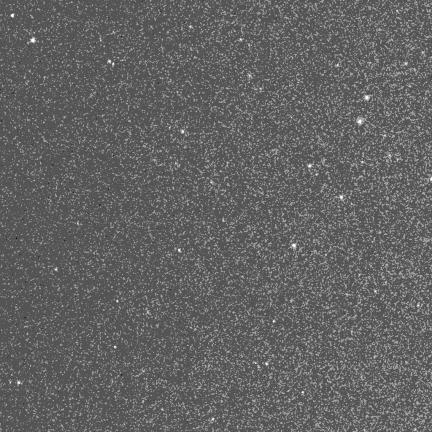blob: (365, 95, 371, 101), (357, 119, 362, 124), (292, 243, 296, 249), (31, 38, 35, 43), (418, 303, 421, 308), (308, 164, 311, 168), (55, 268, 58, 272), (375, 289, 378, 293), (340, 195, 343, 199), (273, 320, 276, 324), (302, 391, 305, 395), (178, 249, 181, 252), (18, 381, 21, 384), (108, 60, 111, 63), (11, 14, 14, 17), (265, 362, 268, 365), (114, 346, 117, 349), (181, 130, 184, 133), (117, 300, 119, 303)
